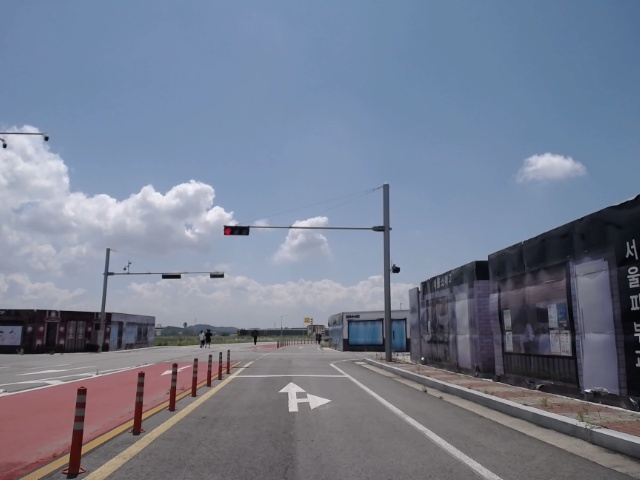red_3: (223, 225, 250, 237)
